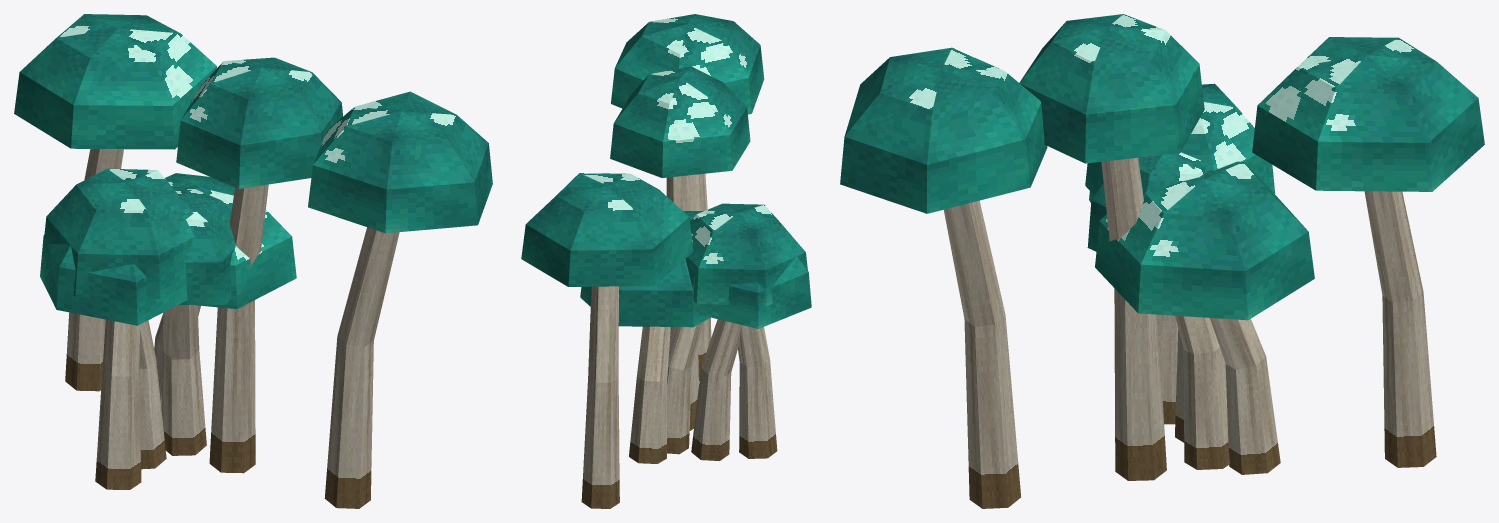
Rendered from MUSH_Glow_01.glb.
3 renders of one model, left to right at view 1: azimuth 30°, elevation 25°; view 2: azimuth 150°, elevation 25°; view 3: azimuth 270°, elevation 25°, orthographic. The views are drawn at different scales.
Visible parts, largest first — view 1: MUSH_Glow_01; view 2: MUSH_Glow_01; view 3: MUSH_Glow_01.
Part boxes in pixels (left/top/right/bottom): MUSH_Glow_01: left=14, top=14, right=492, bottom=508; MUSH_Glow_01: left=521, top=14, right=811, bottom=508; MUSH_Glow_01: left=840, top=14, right=1484, bottom=508.
Size of the model in its own units: 0.1039 by 0.1212 by 0.1559.
Materials: 2 (2 with a texture image).
